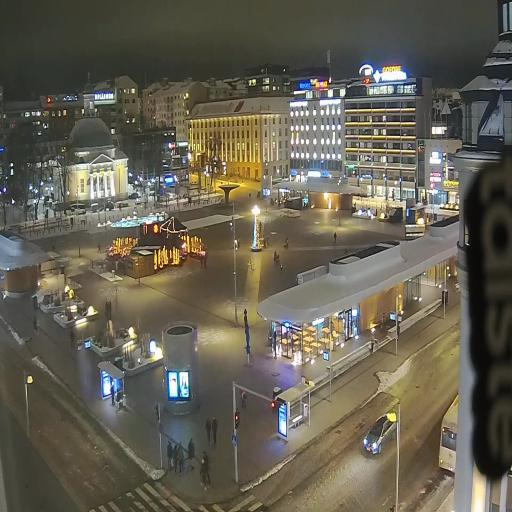Bus: (438, 392, 458, 472)
